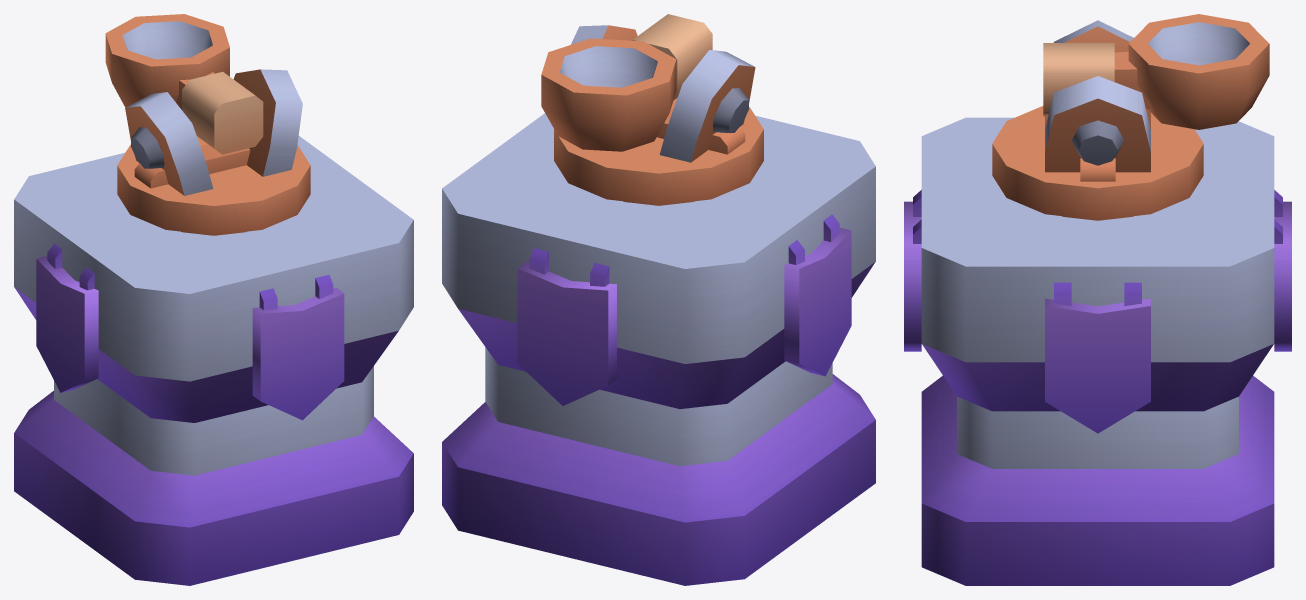
Rendered from tower-3-1.glb.
The picture shows the model from 3 angles, left to right: view 1: azimuth 30°, elevation 25°; view 2: azimuth 150°, elevation 25°; view 3: azimuth 270°, elevation 25°; orthographic projection. The views are drawn at different scales.
Parts seen in each view (by area): view 1: tower:3-1; view 2: tower:3-1; view 3: tower:3-1.
Part boxes in pixels (x1=…): tower:3-1: x1=14, y1=14, x2=413, y2=585; tower:3-1: x1=442, y1=14, x2=875, y2=585; tower:3-1: x1=904, y1=14, x2=1291, y2=585.
Size of the model in its own units: 2.01 by 2.67 by 2.01.
1 material, 1 textured.
